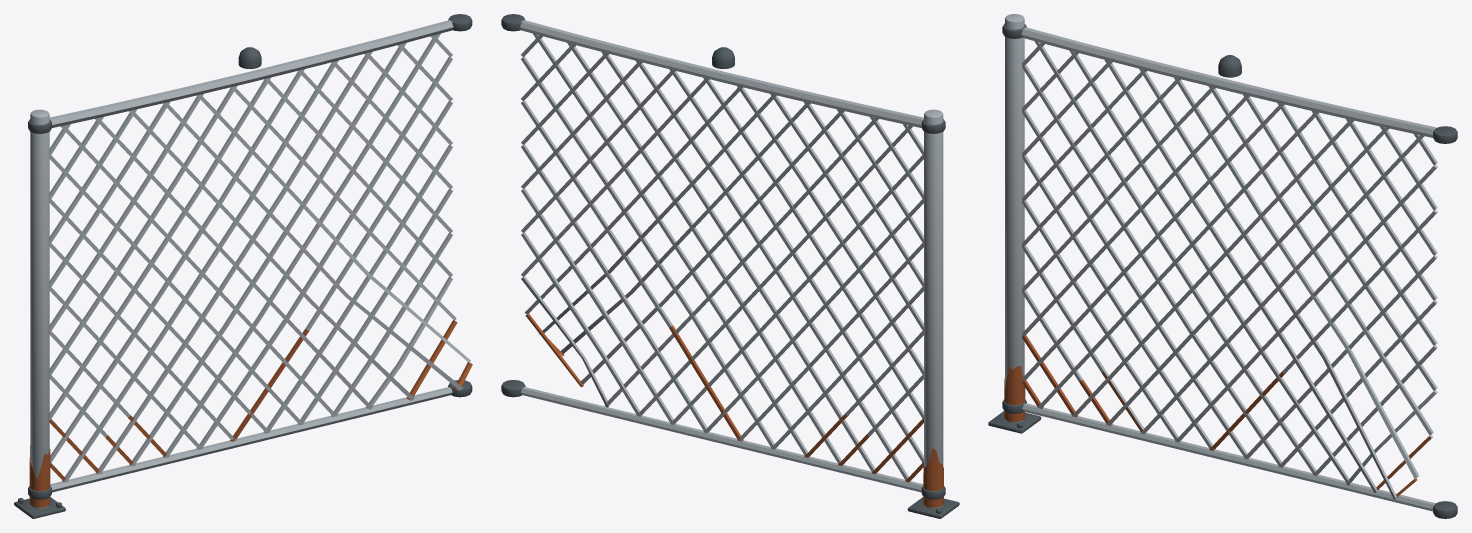
File: fence_panel.glb
The picture shows the model from 3 angles, left to right: view 1: azimuth 30°, elevation 25°; view 2: azimuth 150°, elevation 25°; view 3: azimuth 330°, elevation 25°; orthographic projection. The views are drawn at different scales.
Visible parts, largest first — view 1: Fence; view 2: Fence; view 3: Fence.
Boxes of the visible parts, x1,y1,x2,y2 form: Fence: [14, 14, 472, 518]; Fence: [501, 14, 959, 518]; Fence: [988, 14, 1457, 518].
Size of the model in its own units: 2.66 by 2.33 by 0.3693.
